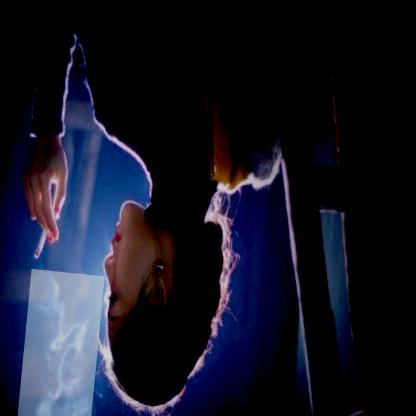smoke: (25, 268, 110, 416)
